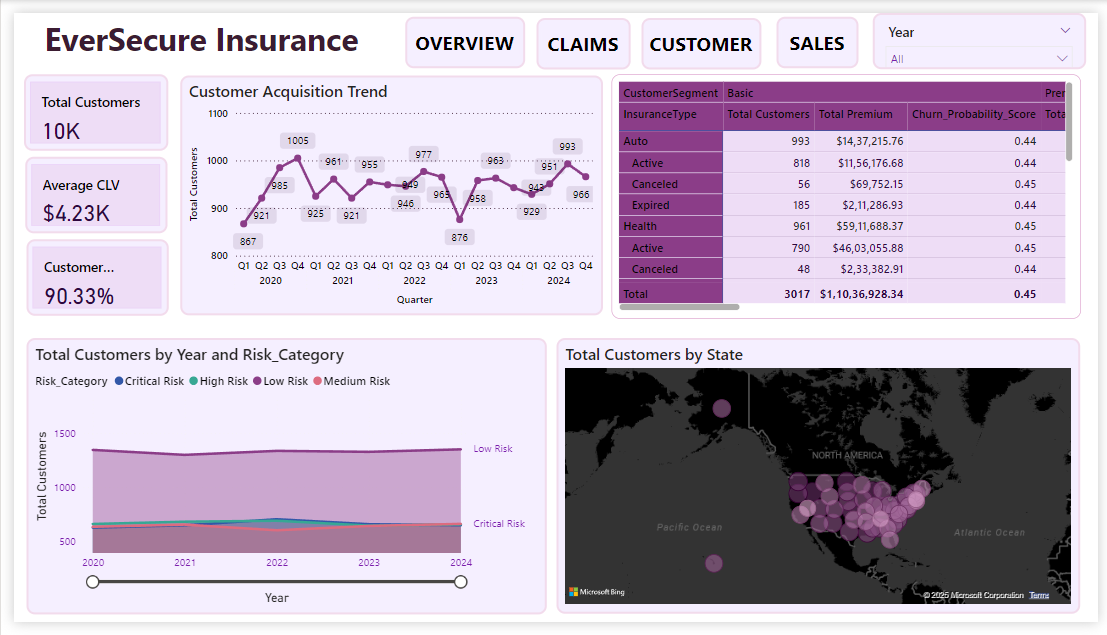

Layout of this report page (visuals, bound fields, positions):
{"tool":"powerbi","page":{"name":"Customers","canvas":[1280,720],"ordinal":2},"visuals":[{"type":"clusteredColumnChart","fields":{"Y":["customers.Average Premium"],"Category":["customers.Age Group"]},"box":[11.4,384.3,605.7,325.7],"z":0},{"type":"cardVisual","fields":{"Data":["customers.Total Customers"]},"box":[11.7,71.7,170,90],"z":1000},{"type":"cardVisual","fields":{"Data":["customers.Average CLV"]},"box":[13.3,169.2,168.3,90],"z":2000},{"type":"slicer","fields":{"Values":["DateDim.Year"]},"box":[1013.3,0,251.7,66.7],"z":3000},{"type":"cardVisual","fields":{"Data":["customers.Customer Retention"]},"box":[15,266.7,168.3,90],"z":4000},{"type":"shape","box":[461.7,4.3,141.4,60.6],"z":5000},{"type":"shape","box":[617.5,5.8,111.1,60.6],"z":6000},{"type":"shape","box":[741.6,5.8,141.4,60.6],"z":7000},{"type":"shape","box":[900.3,4.3,96.7,60.6],"z":8000},{"type":"textbox","box":[31,0,413.3,64.9],"z":9000},{"type":"map","fields":{"Category":["customers.State"],"Size":["customers.Total Customers"]},"box":[640,384.3,618.6,325.7],"z":10000},{"type":"pivotTable","fields":{"Rows":["policies.InsuranceType","policies.PolicyStatus"],"Columns":["customers.CustomerSegment"],"Values":["customers.Total Customers","policies.Total Premium"]},"box":[705.5,72.1,554,288.6],"z":11000},{"type":"lineChart","title":"Customer Acquisition Trend","fields":{"Category":["DateDim.Date.Variation.Date Hierarchy.Year","DateDim.Quarter"],"Y":["customers.Total Customers"]},"box":[196.3,73.8,498.9,283.4],"z":12000}]}

Visuals, with their boxes in screenshot pixels (x1, y1, x2, y2), scaled from the page's 1280x720 canvas onto the 1107x635 screenshot:
clusteredColumnChart - customers.Average Premium x customers.Age Group: detection(10, 339, 534, 626)
cardVisual - customers.Total Customers: detection(10, 63, 157, 143)
cardVisual - customers.Average CLV: detection(12, 149, 157, 229)
slicer - DateDim.Year: detection(876, 0, 1094, 59)
cardVisual - customers.Customer Retention: detection(13, 235, 159, 315)
shape: detection(399, 4, 522, 57)
shape: detection(534, 5, 630, 59)
shape: detection(641, 5, 764, 59)
shape: detection(779, 4, 862, 57)
textbox: detection(27, 0, 384, 57)
map - customers.State x customers.Total Customers: detection(554, 339, 1088, 626)
pivotTable - policies.InsuranceType x policies.PolicyStatus: detection(610, 64, 1089, 318)
"Customer Acquisition Trend" lineChart: detection(170, 65, 601, 315)
